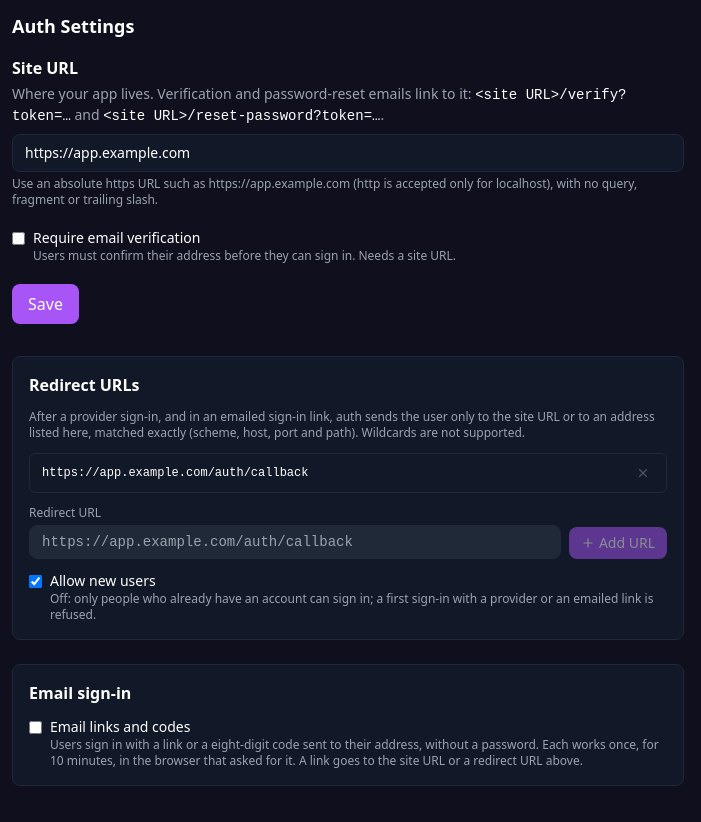
sign-in by emailed link or code › shows the server's refusal
Click the checkbox labelled "Email links and codes": (36, 728) [29, 721, 42, 734]
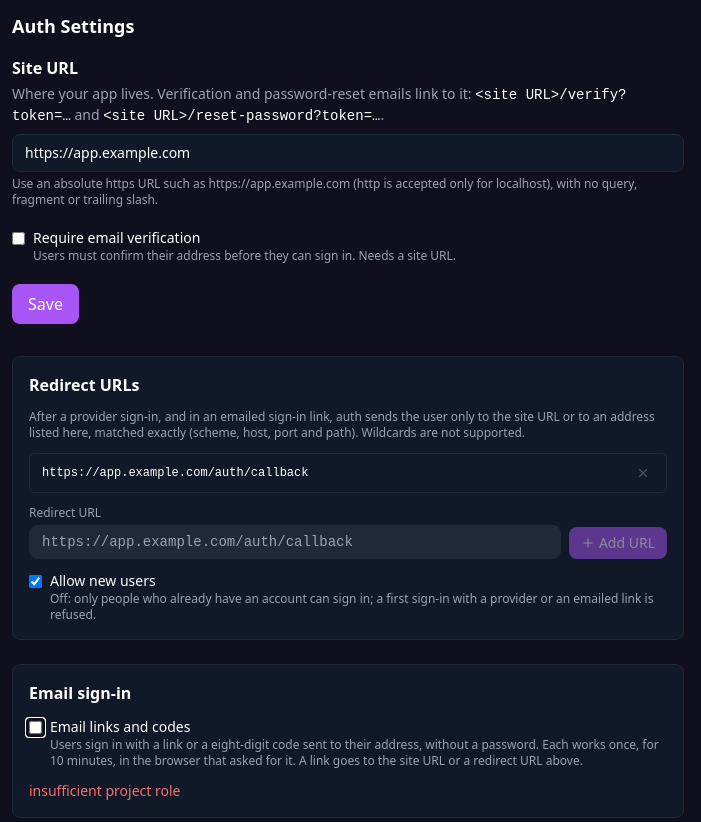
expect the message reads "insufficient project role": met, box [29, 781, 180, 800]
